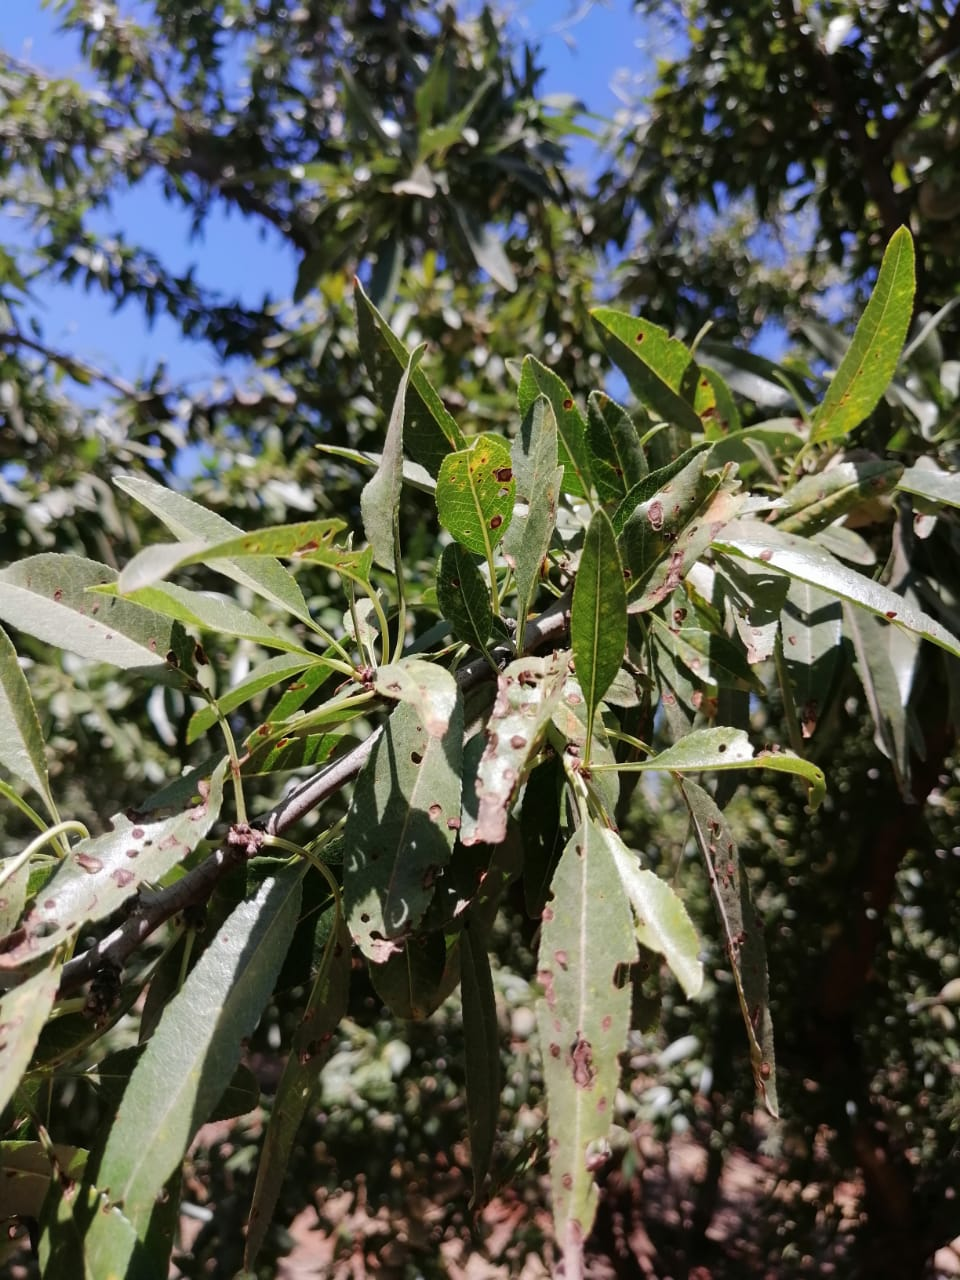coryneum: (1, 754, 233, 968), (536, 821, 642, 1248), (337, 671, 471, 957), (680, 773, 782, 1117), (1, 549, 217, 708), (584, 306, 719, 438), (432, 434, 519, 558)
